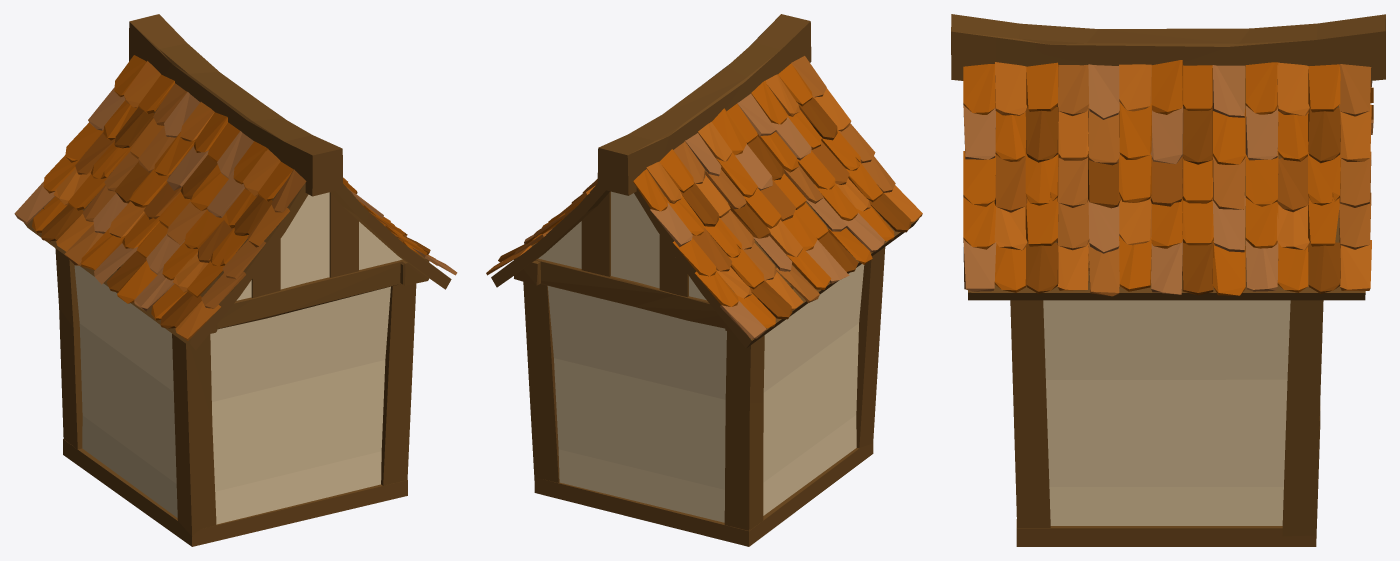
File: SmallHouse_03.fbx
The picture shows the model from 3 angles, left to right: view 1: azimuth 30°, elevation 25°; view 2: azimuth 150°, elevation 25°; view 3: azimuth 270°, elevation 25°; orthographic projection. The views are drawn at different scales.
Parts seen in each view (by area): view 1: SmallHouse_03; view 2: SmallHouse_03; view 3: SmallHouse_03.
Boxes of the visible parts, box(x1,y1,x2,y2) form: SmallHouse_03: box(14, 14, 457, 546); SmallHouse_03: box(486, 14, 922, 546); SmallHouse_03: box(951, 14, 1385, 546).
Bounding box in the file's own units: 366 × 486 × 415.
